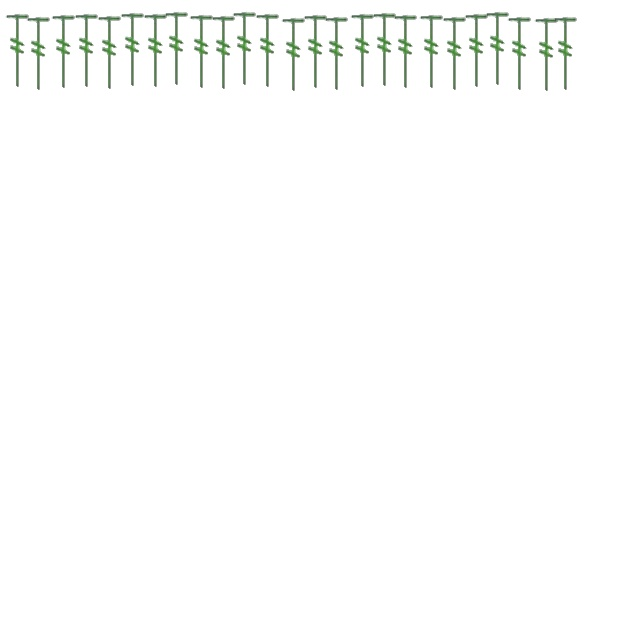fan: (4, 13, 30, 89), (25, 16, 51, 92), (50, 14, 76, 90), (73, 13, 99, 89), (96, 15, 122, 91), (119, 12, 145, 88), (142, 13, 168, 89), (163, 11, 189, 87), (188, 14, 214, 90), (210, 15, 236, 91), (231, 11, 257, 87), (254, 13, 280, 89), (280, 17, 306, 93), (302, 14, 328, 90), (323, 16, 349, 92), (349, 13, 375, 89), (371, 12, 397, 88), (392, 14, 418, 90), (418, 14, 444, 90), (441, 16, 467, 92), (463, 13, 489, 89), (484, 11, 510, 87), (506, 16, 532, 92), (533, 17, 559, 93), (552, 16, 578, 92)
